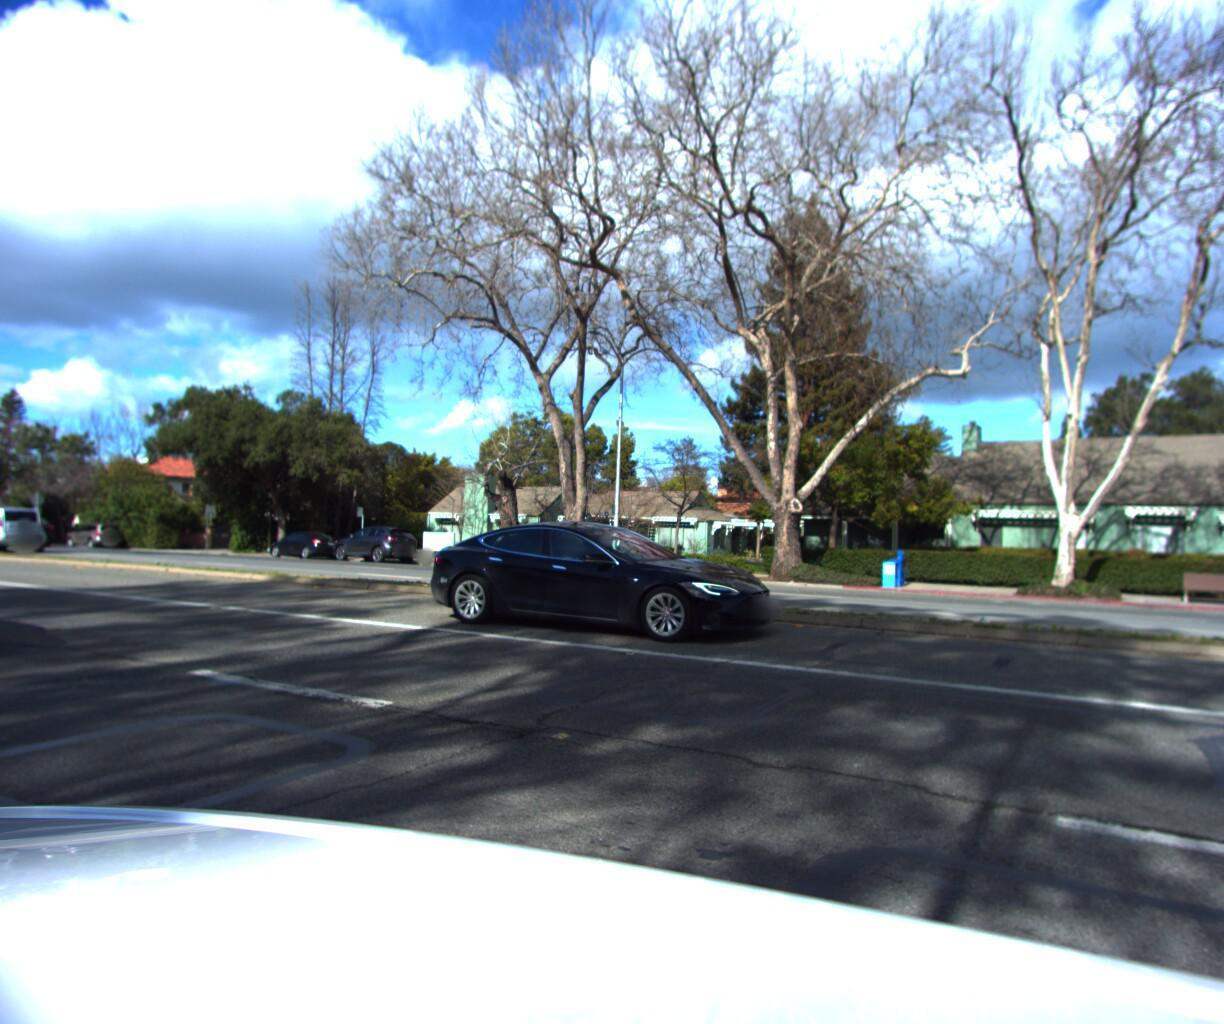car: (410, 511, 796, 650), (323, 527, 422, 569), (262, 533, 349, 567), (0, 507, 56, 557), (0, 516, 61, 558), (60, 526, 129, 554), (0, 503, 7, 695)
